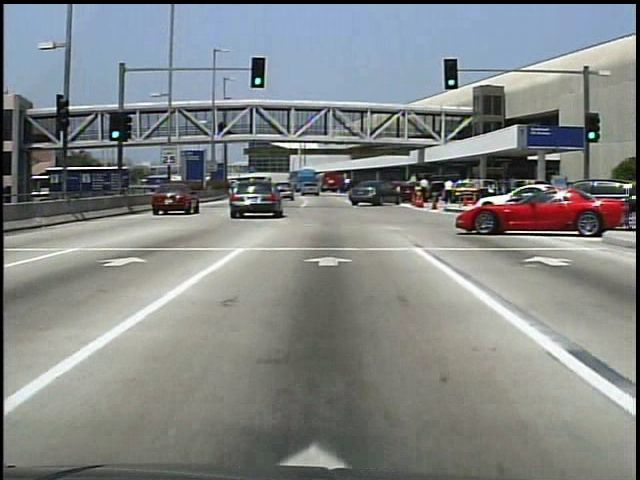person: (416, 174, 433, 209), (484, 180, 500, 215), (442, 177, 458, 205), (218, 122, 227, 139)
